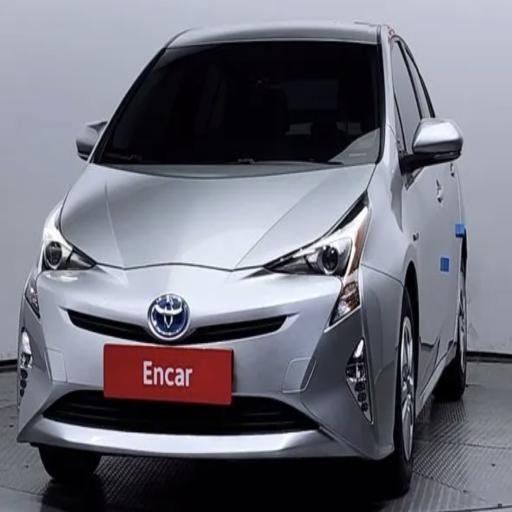dent: (86, 156, 335, 296)
